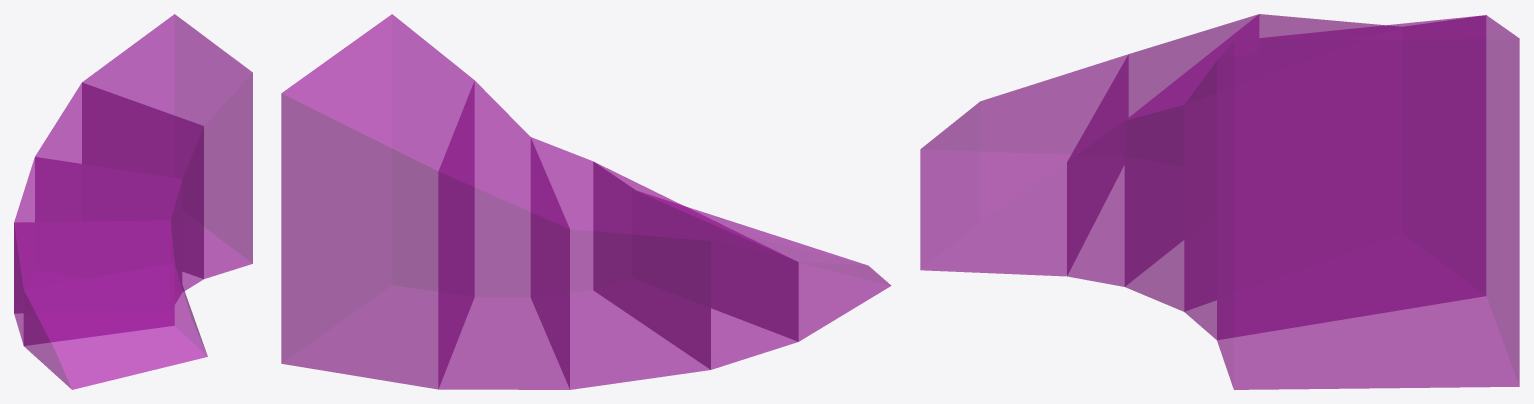
Rendered from SM_Bld_Shrine_Stairs_03_Collision.fbx.
3 views of the same model, side by side, from view 1: azimuth 30°, elevation 25°; view 2: azimuth 150°, elevation 25°; view 3: azimuth 270°, elevation 25° (orthographic). The views are drawn at different scales.
Visible parts, largest first — view 1: SM_Bld_Shrine_Stairs_03_Collision; view 2: SM_Bld_Shrine_Stairs_03_Collision; view 3: SM_Bld_Shrine_Stairs_03_Collision.
Boxes of the visible parts, x1,y1,x2,y2 form: SM_Bld_Shrine_Stairs_03_Collision: (14,14,252,389); SM_Bld_Shrine_Stairs_03_Collision: (281,14,891,389); SM_Bld_Shrine_Stairs_03_Collision: (920,14,1519,389).
Bounding box in the file's own units: 505 × 349 × 539.
